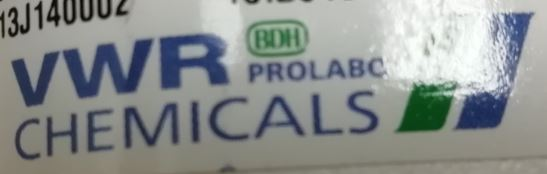VWR: (9, 8, 536, 165)
